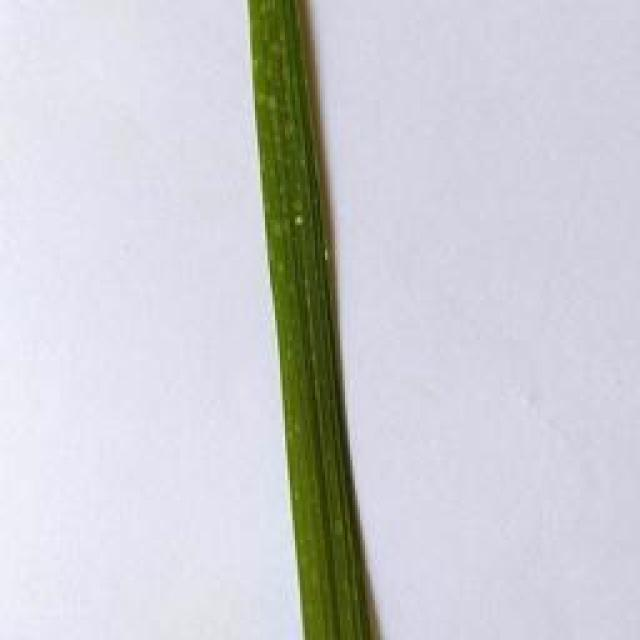Unhealthy: (296, 215, 303, 225), (324, 247, 327, 261)
